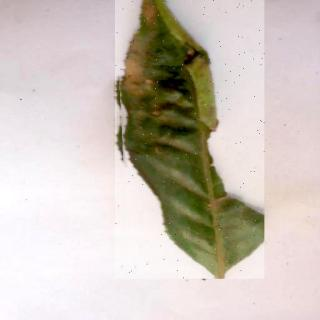Algal Leaf: (116, 1, 265, 280)
